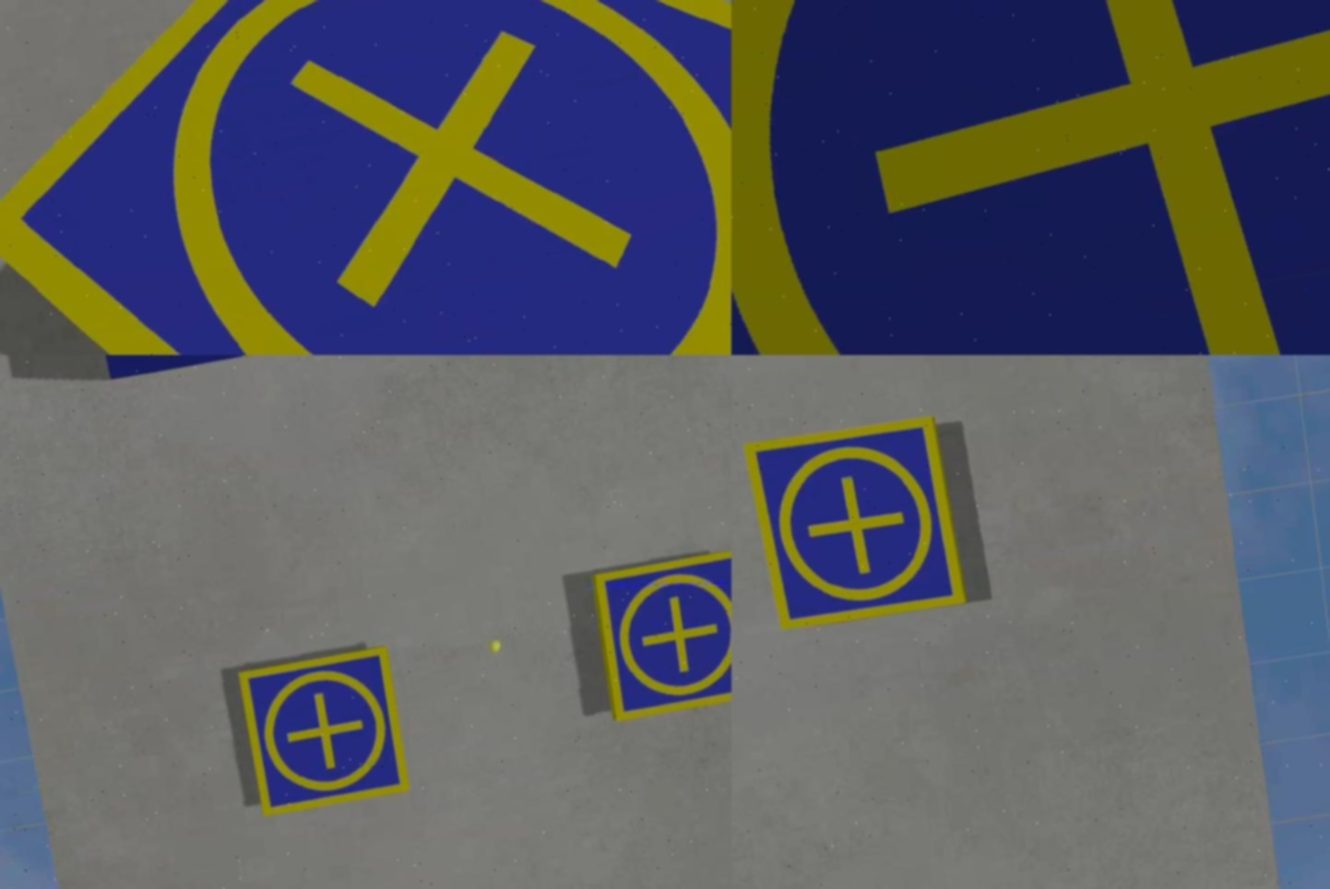large_base: (731, 1, 1330, 356)
small_base: (1, 1, 731, 356), (740, 409, 973, 637), (239, 645, 410, 820), (589, 549, 731, 728)
